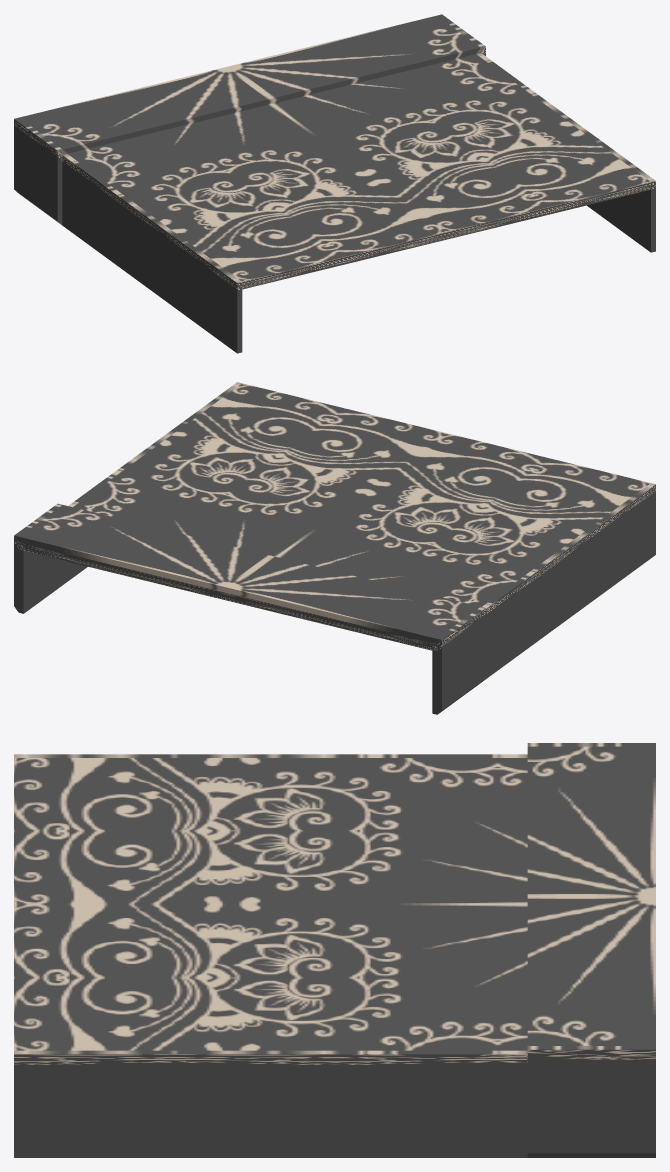
The model's file is blanket-01.fbx.
3 views of the same model, one above another, from view 1: azimuth 30°, elevation 25°; view 2: azimuth 150°, elevation 25°; view 3: azimuth 270°, elevation 25° (orthographic). The views are drawn at different scales.
Visible parts, largest first — view 1: pCube32; view 2: pCube32; view 3: pCube32.
Part boxes in pixels (<box>): pCube32: <box>14,14,655,353</box>; pCube32: <box>14,382,655,714</box>; pCube32: <box>14,743,655,1157</box>.
Bounding box in the file's own units: 0.0198 × 0.00337 × 0.0176.
